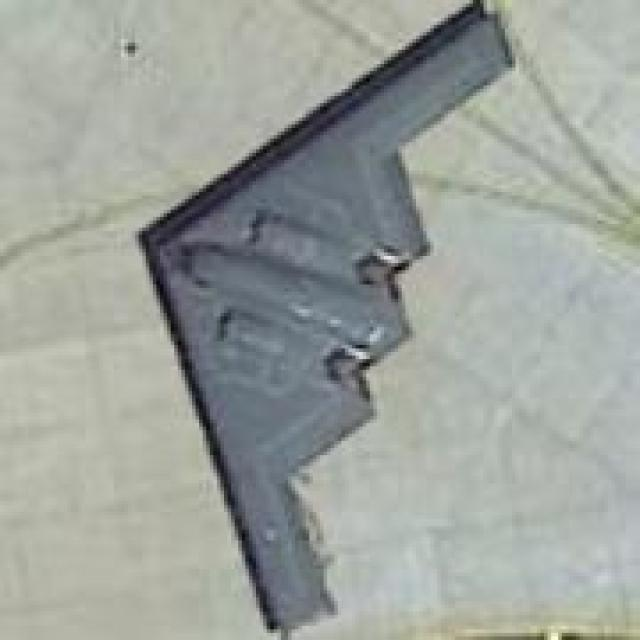B-2_TopDown: (128, 0, 520, 636)
